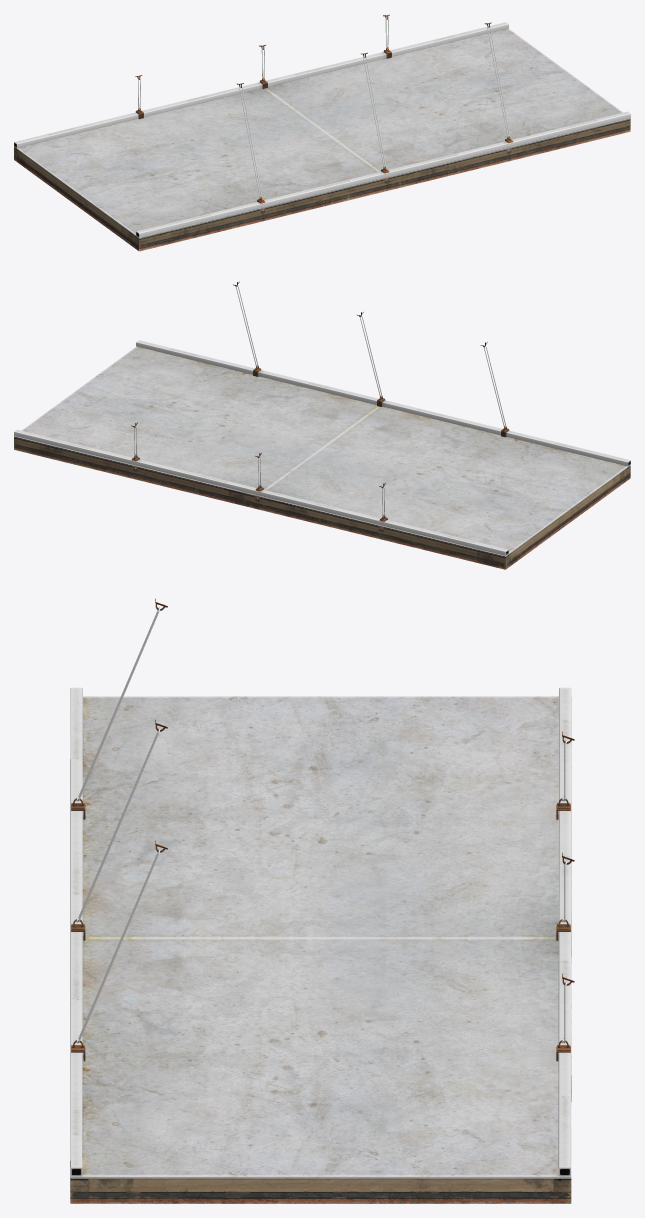
Rendered from SM_Ceiling_Baffle_01a.glb.
3 views of the same model, one above another, from view 1: azimuth 30°, elevation 25°; view 2: azimuth 150°, elevation 25°; view 3: azimuth 270°, elevation 25° (orthographic). The views are drawn at different scales.
Parts seen in each view (by area): view 1: SM_Ceiling_Baffle_01a; view 2: SM_Ceiling_Baffle_01a; view 3: SM_Ceiling_Baffle_01a.
Boxes of the visible parts, x1=… form: SM_Ceiling_Baffle_01a: x1=14, y1=14, x2=630, y2=251; SM_Ceiling_Baffle_01a: x1=14, y1=281, x2=630, y2=569; SM_Ceiling_Baffle_01a: x1=70, y1=598, x2=574, y2=1203.
Bounding box in the file's own units: 3.97 × 0.9446 × 1.76.
1 material, 1 textured.
